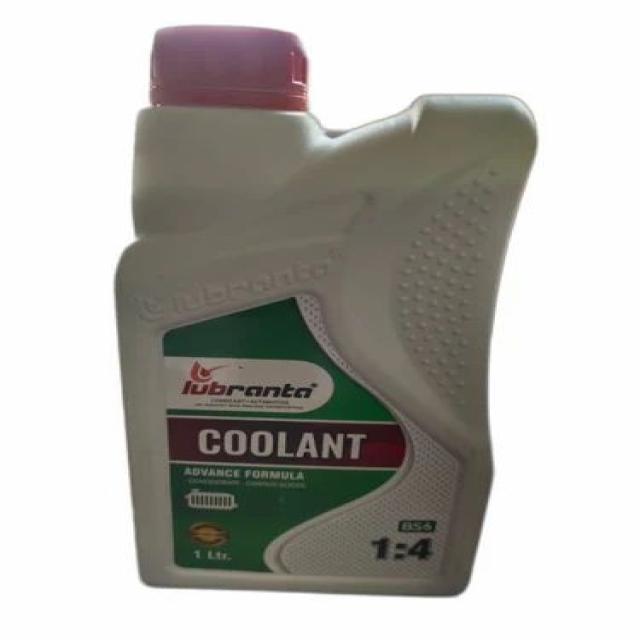coolant: (101, 22, 545, 603)
